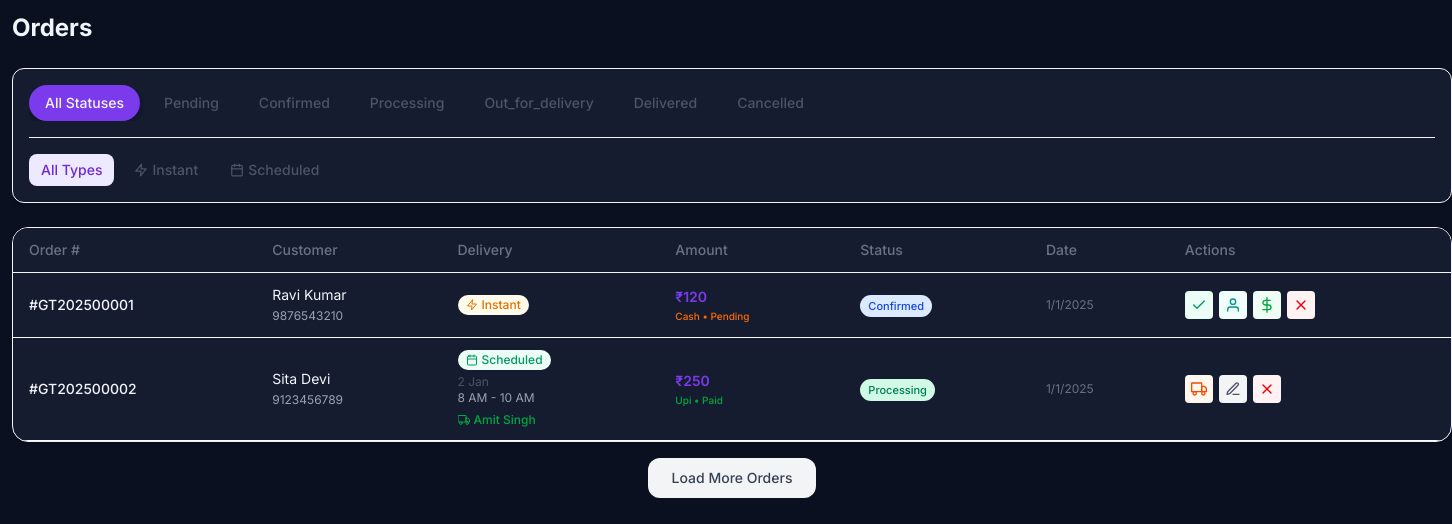
Test: AdminOrders Assign Delivery › loads more orders when pagination has more pages
Expected: the text "#GT202500001" is shown, [13,272,256,338]
Click the button "Load More Orders" at [732, 478], box [648,458,816,498]
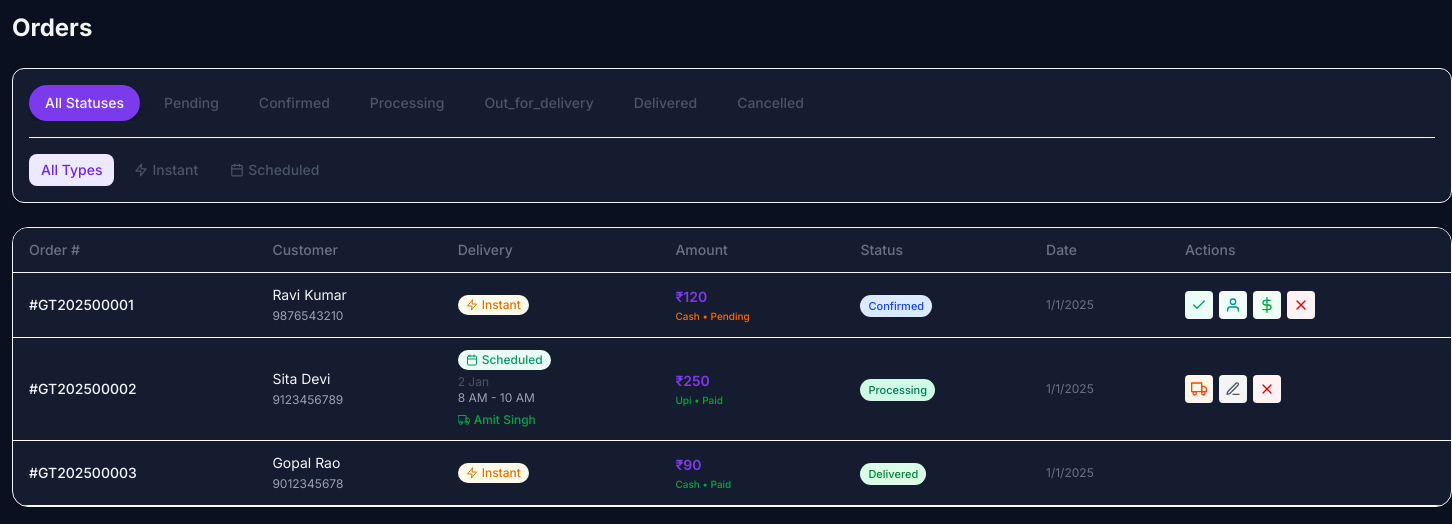
Expected: the text "#GT202500001" is shown, [13,272,256,338]
Expected: the text "#GT202500003" is shown, [13,440,256,506]
